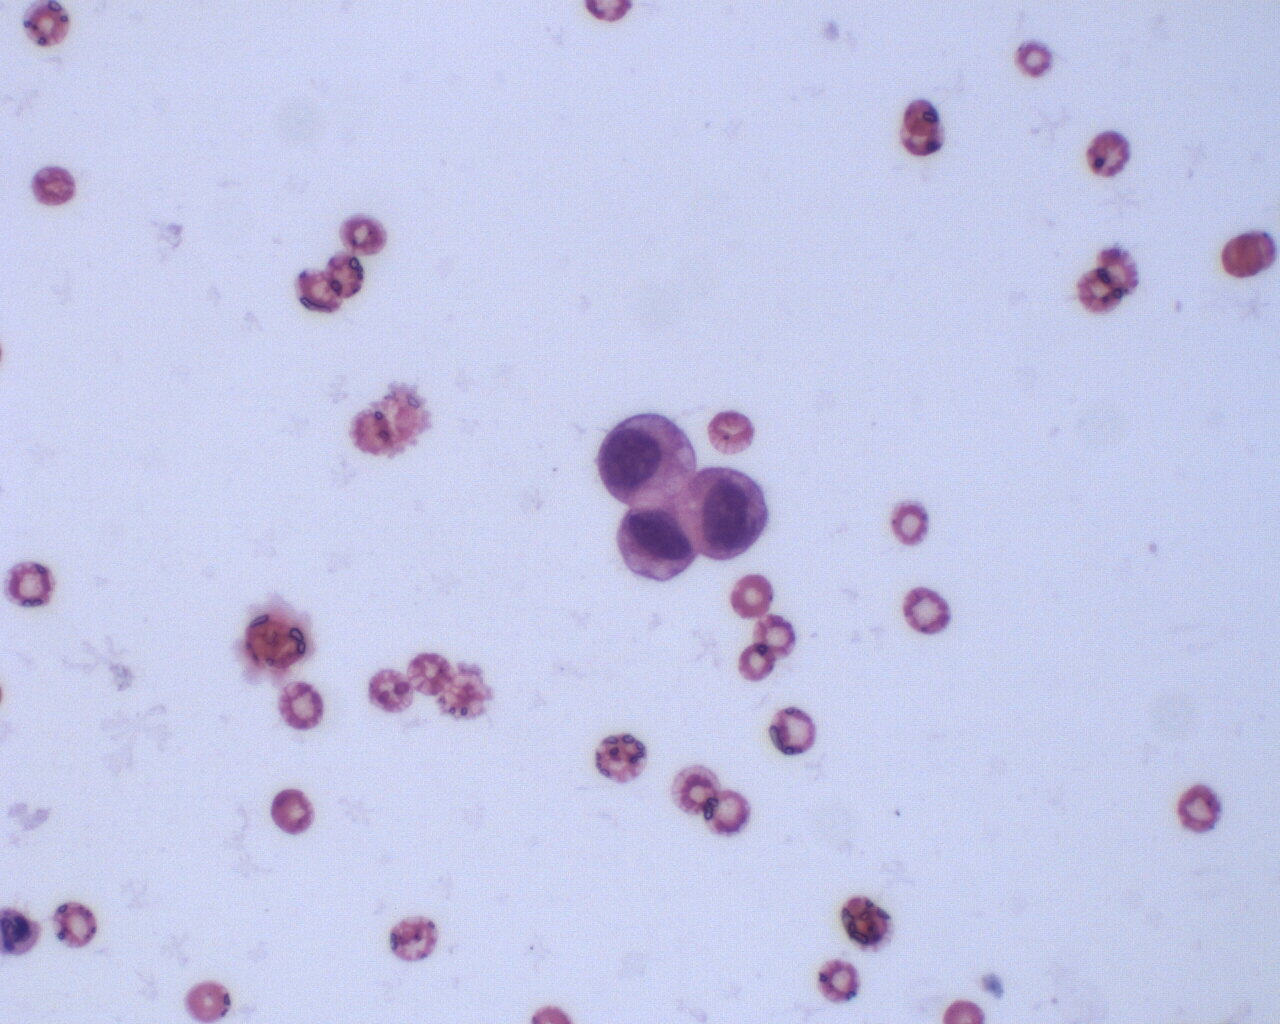meso: (594, 411, 696, 508), (677, 463, 771, 562), (610, 503, 706, 588)
